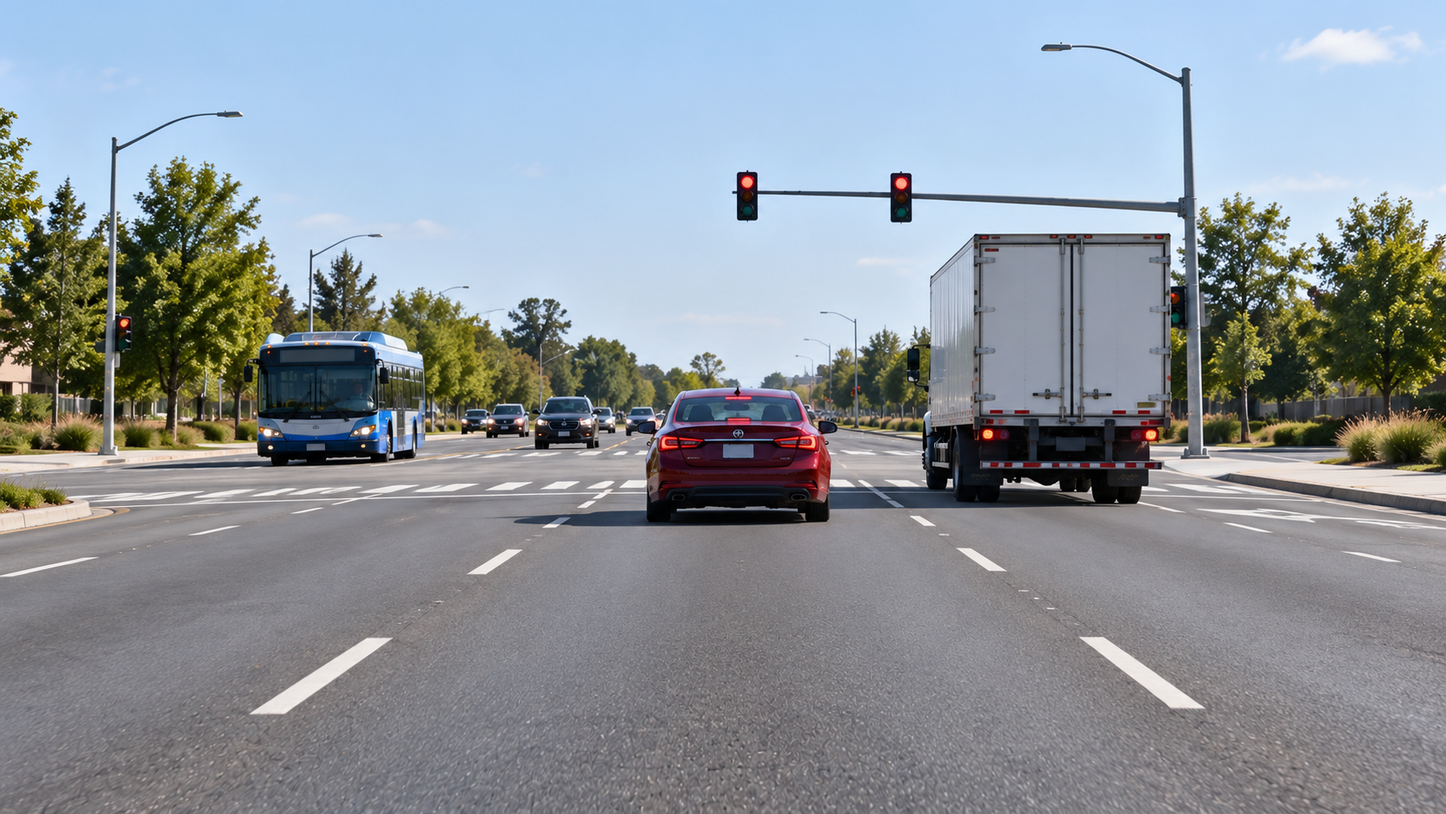bus: (255, 327, 426, 470)
car: (642, 383, 836, 526), (535, 394, 605, 445), (456, 402, 499, 442), (601, 401, 639, 441), (503, 399, 537, 442)
traffic_light: (733, 170, 764, 225), (890, 170, 919, 225), (1166, 281, 1194, 333)
truck: (921, 230, 1179, 508)
zebra_crossing: (0, 466, 1445, 505)
